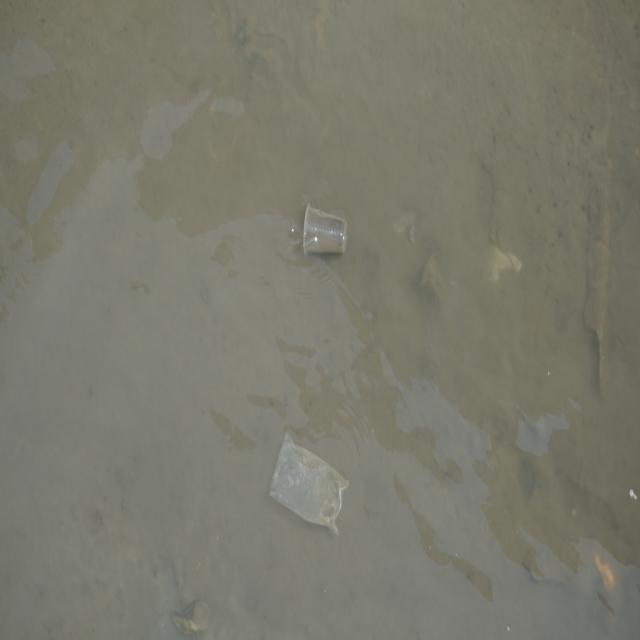Bungkus Minuman: (301, 199, 352, 264)
Kantong Plastik: (266, 428, 351, 542)
